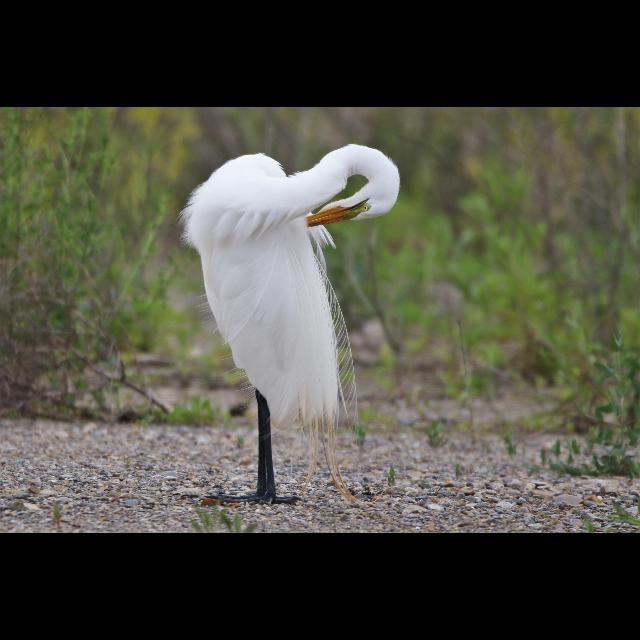egret: (180, 143, 400, 505)
